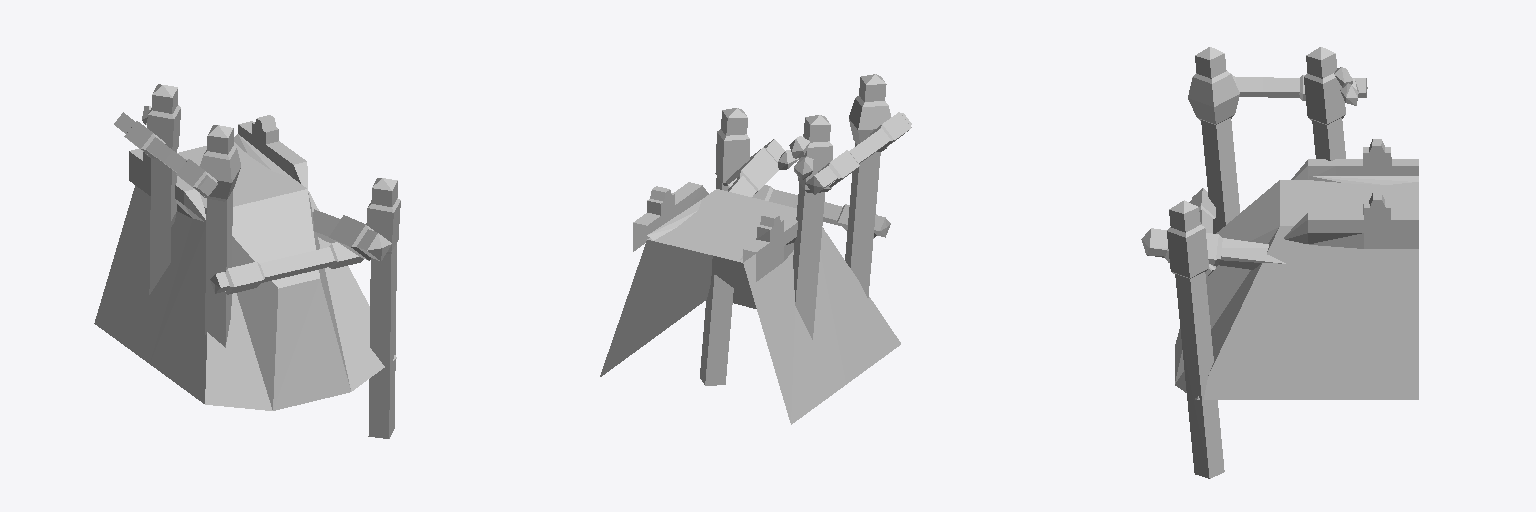
The model's file is templeToPlankCapAVert_prefab.obj.
3 views of the same model, side by side, from view 1: azimuth 30°, elevation 25°; view 2: azimuth 150°, elevation 25°; view 3: azimuth 270°, elevation 25° (orthographic).
Parts seen in each view (by area): view 1: Object75-Pivot; view 2: Object75-Pivot; view 3: Object75-Pivot.
Part boxes in pixels (x1,y1,x2,y2): Object75-Pivot: (94, 84, 400, 438); Object75-Pivot: (600, 74, 911, 424); Object75-Pivot: (1141, 47, 1418, 478).
Size of the model in its own units: 43.19 by 69.39 by 50.1.